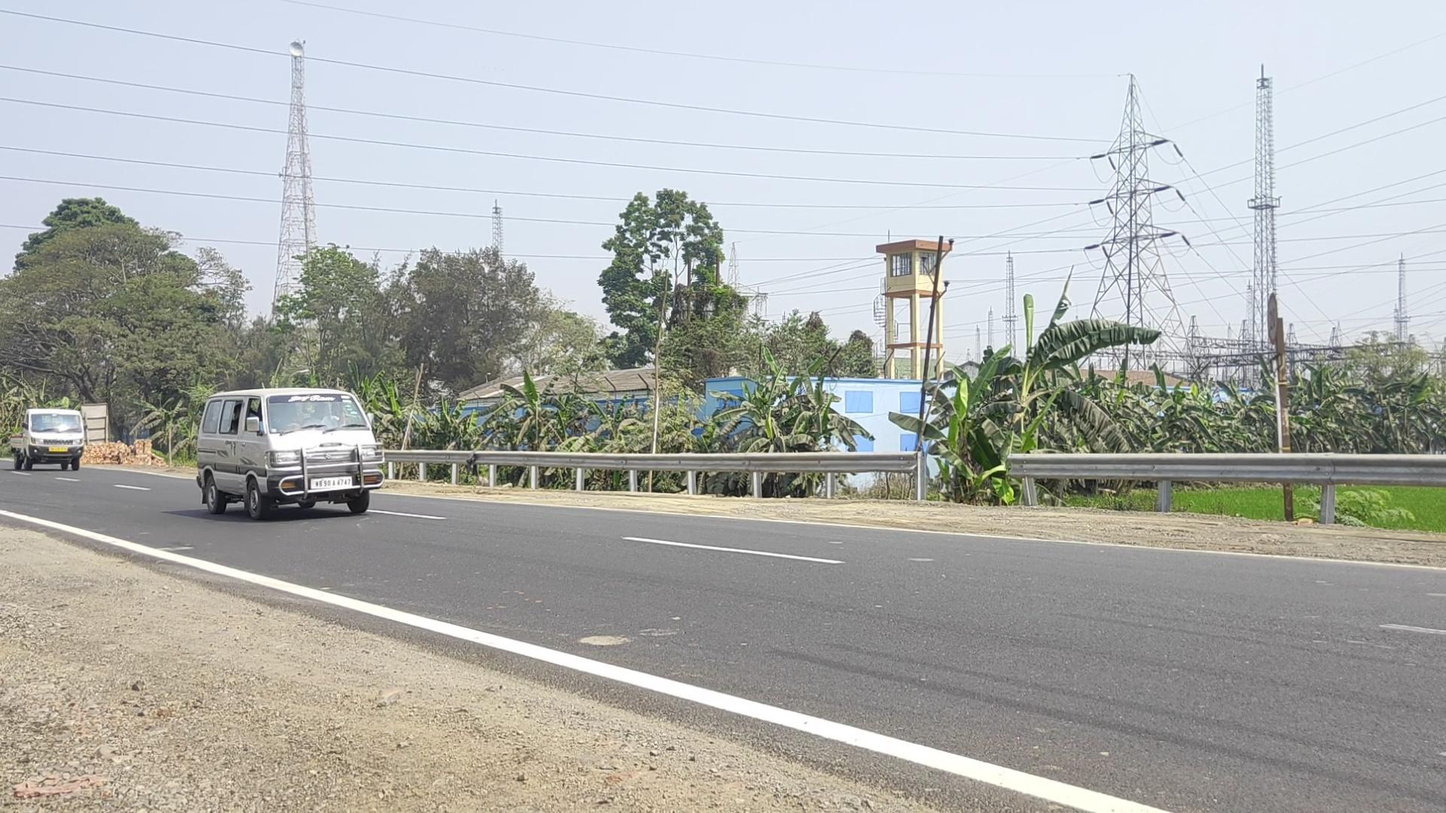van: (196, 388, 384, 520), (11, 408, 86, 472)
